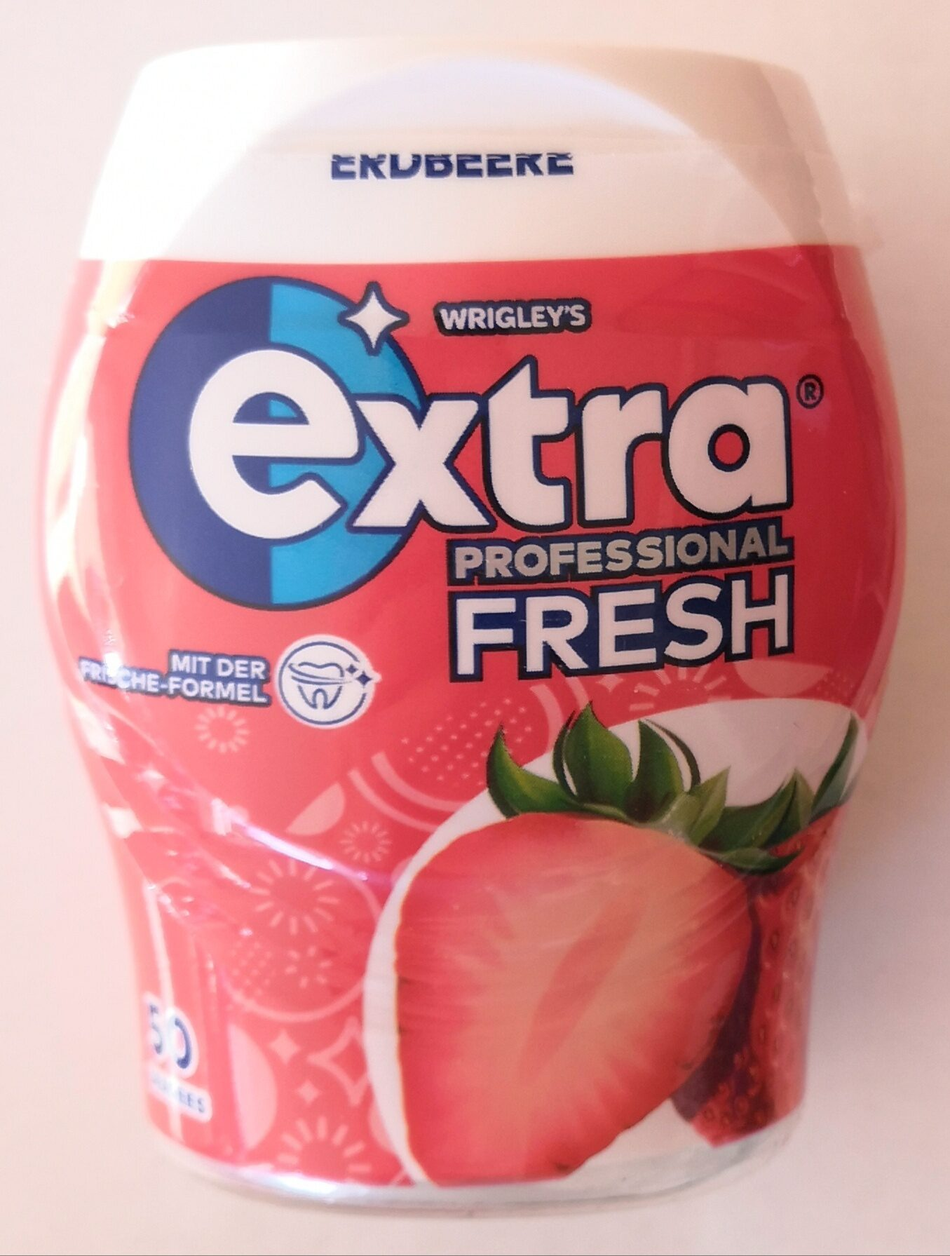Professional fresh Erdbeere: (47, 63, 902, 1193)
